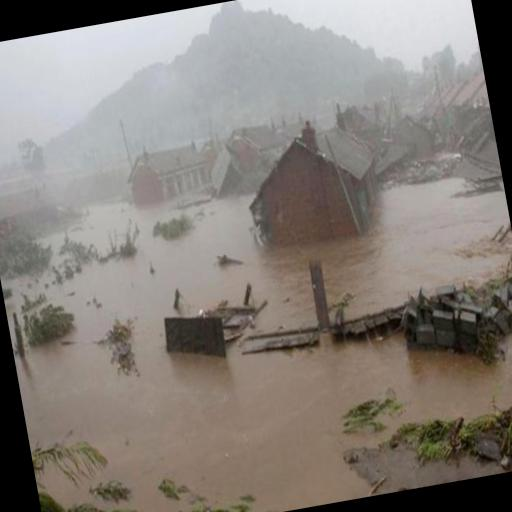flood: (3, 178, 512, 512)
house: (229, 108, 390, 259), (118, 126, 223, 219), (464, 58, 498, 156)
